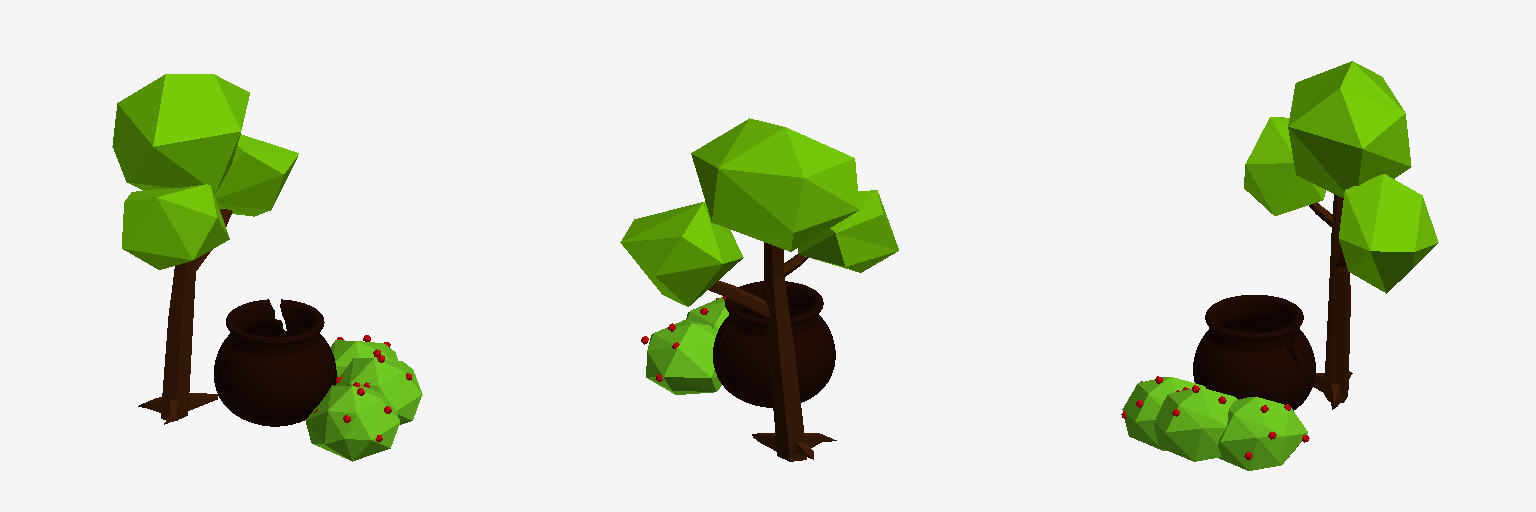
The model's file is Jar.obj.
3 views of the same model, side by side, from view 1: azimuth 30°, elevation 25°; view 2: azimuth 150°, elevation 25°; view 3: azimuth 270°, elevation 25° (orthographic).
Visible parts, largest first — view 1: tree03, Jar:_Honey_Jar_v1, pasted__pasted__Bush01; view 2: tree03, Jar:_Honey_Jar_v1, pasted__pasted__Bush01; view 3: tree03, pasted__pasted__Bush01, Jar:_Honey_Jar_v1.
Boxes of the visible parts, box(x1,y1,x2,y2) form: tree03: box(112, 74, 298, 424); Jar:_Honey_Jar_v1: box(214, 299, 336, 426); pasted__pasted__Bush01: box(306, 335, 422, 461); tree03: box(620, 118, 898, 461); Jar:_Honey_Jar_v1: box(713, 281, 835, 407); pasted__pasted__Bush01: box(641, 296, 728, 394); tree03: box(1244, 61, 1438, 409); pasted__pasted__Bush01: box(1121, 376, 1309, 470); Jar:_Honey_Jar_v1: box(1193, 295, 1315, 410).
Bounding box in the file's own units: 10.05 × 12.19 × 10.41.